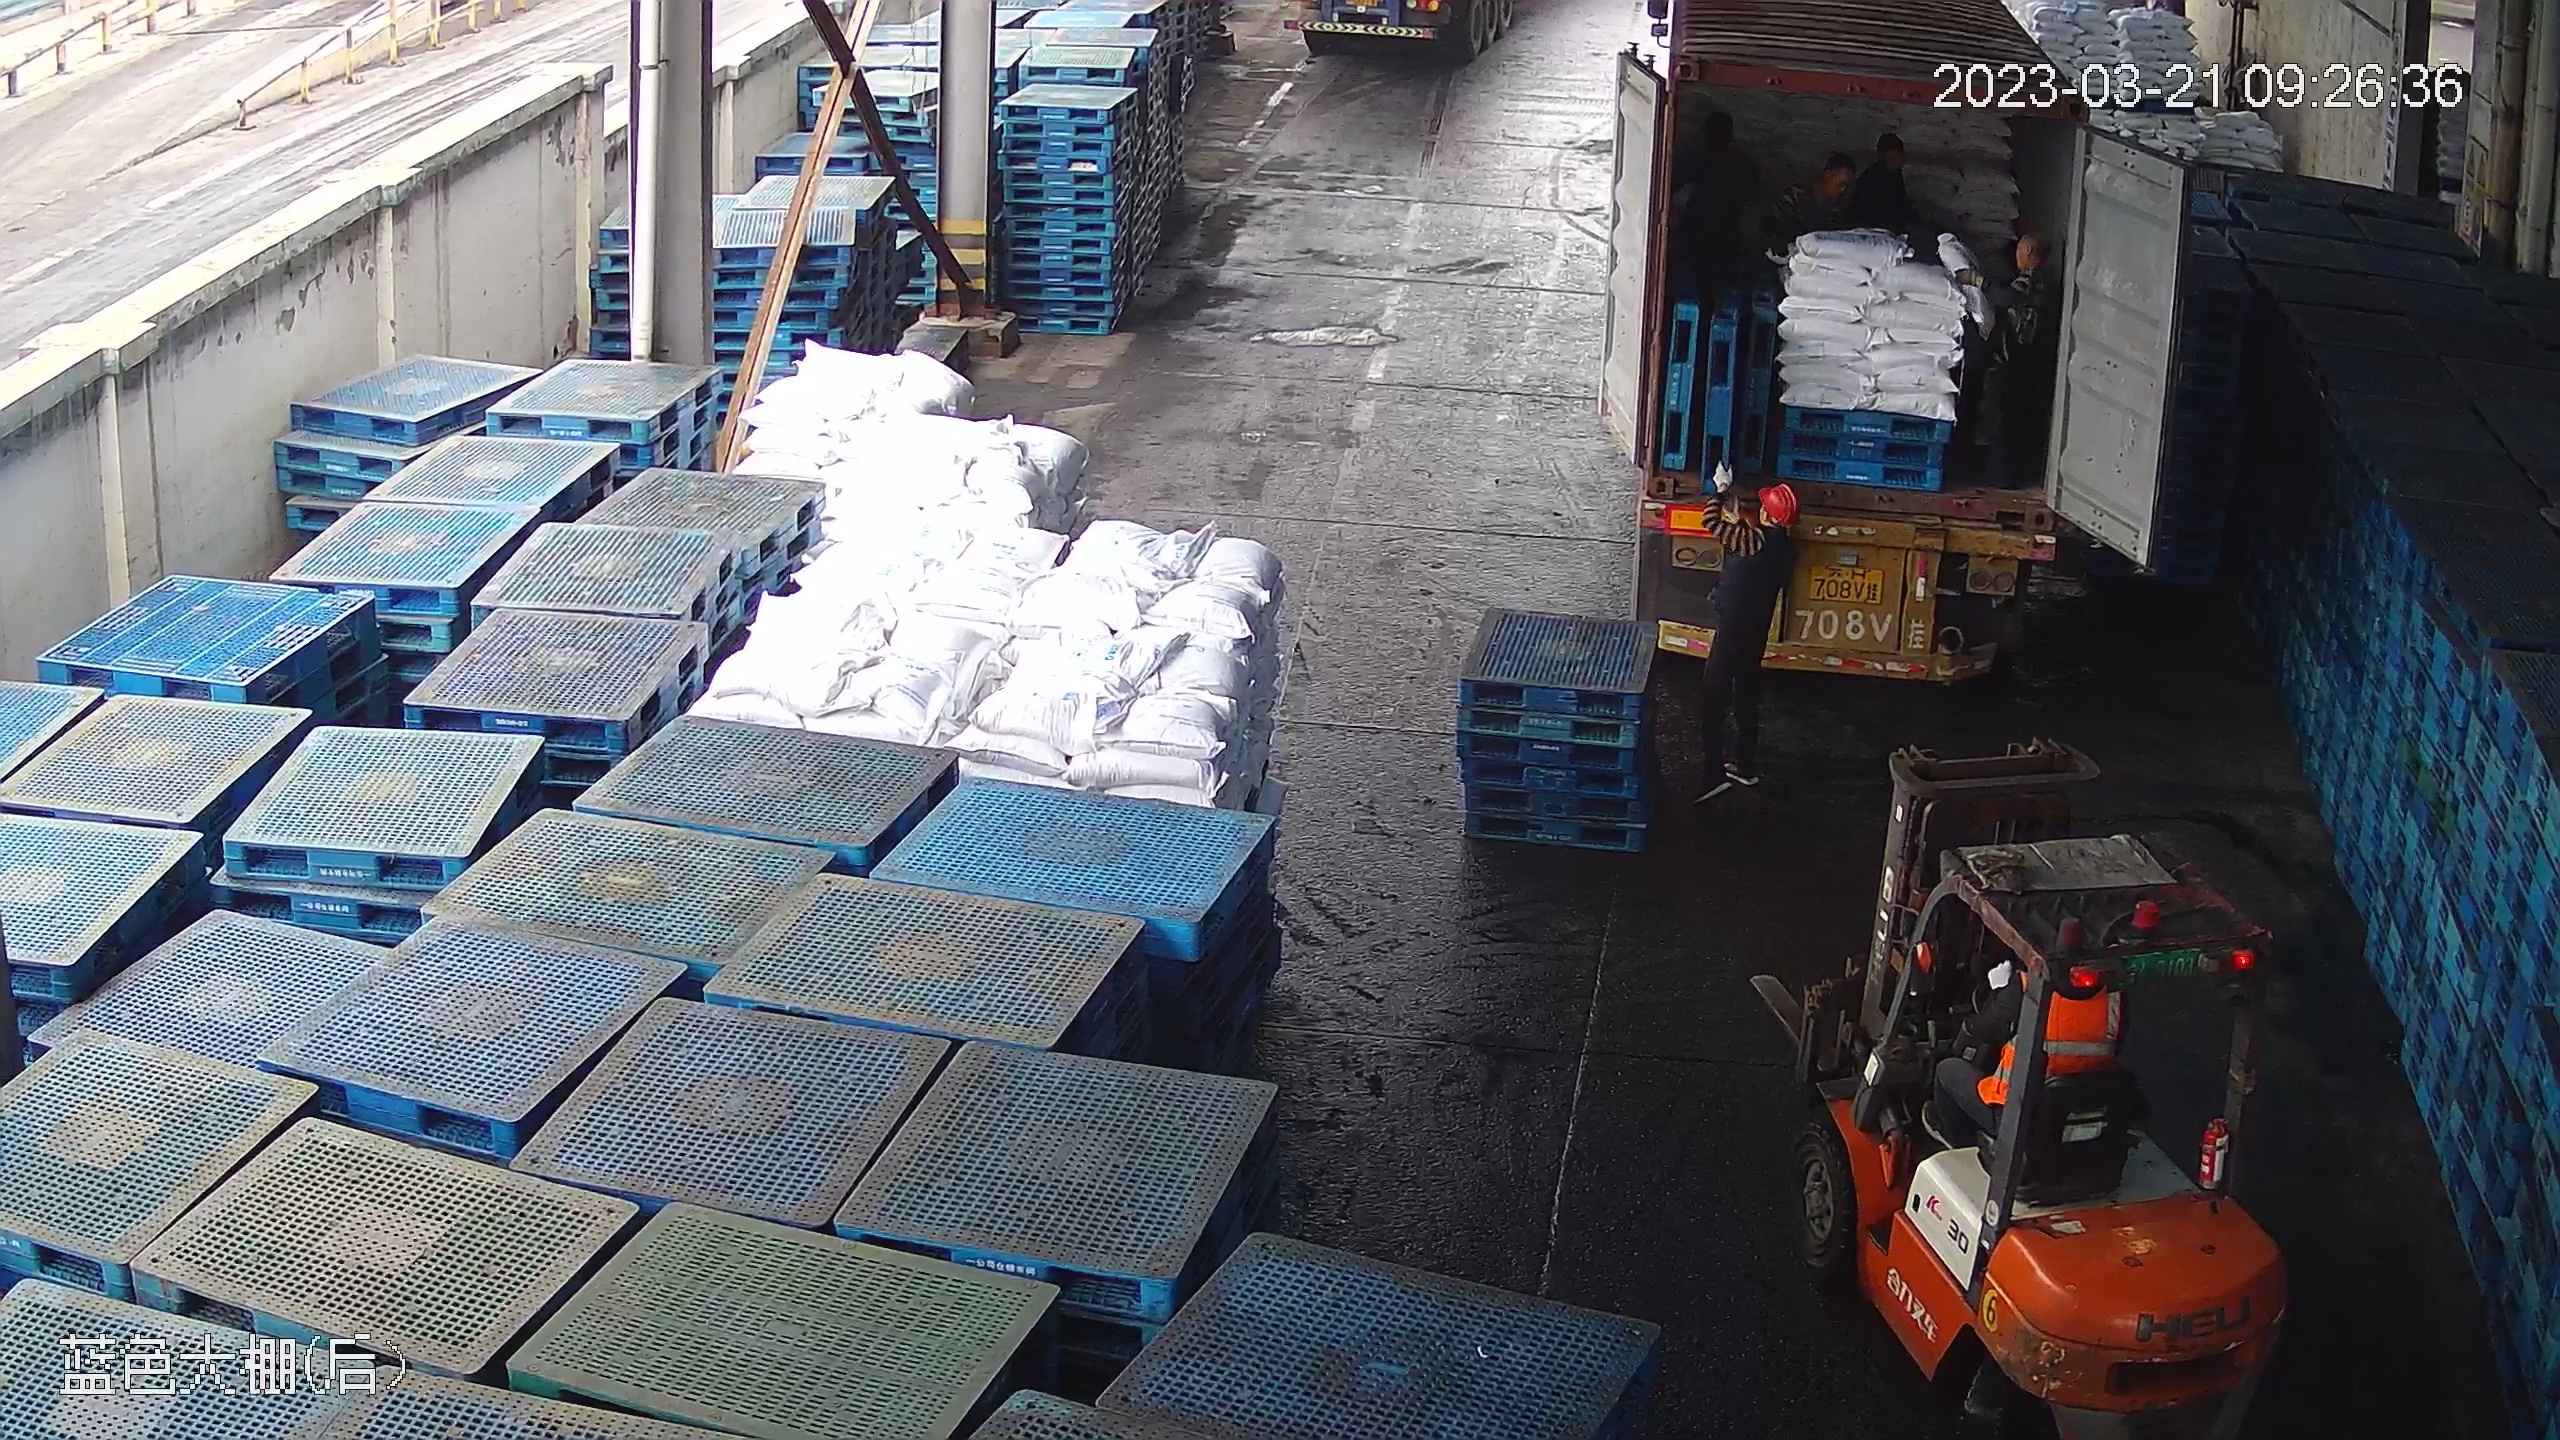head: (1725, 481, 1804, 574), (1773, 159, 1860, 226), (1855, 126, 1913, 221), (1995, 230, 2055, 315)
helmet: (1758, 481, 1799, 516)
people: (1699, 477, 1805, 792), (1980, 226, 2054, 485)
truck: (1604, 1, 2230, 746)
